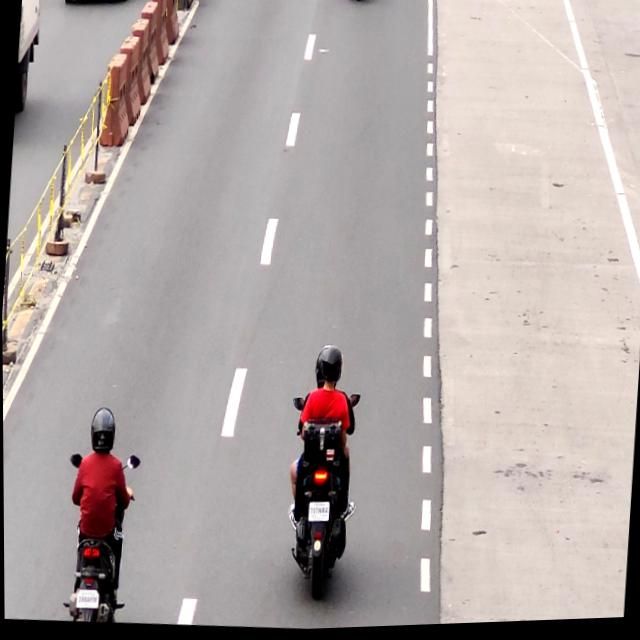License-Plate: (72, 587, 99, 613), (306, 503, 329, 528)
Motorcycle: (282, 345, 358, 600), (58, 404, 134, 624)
